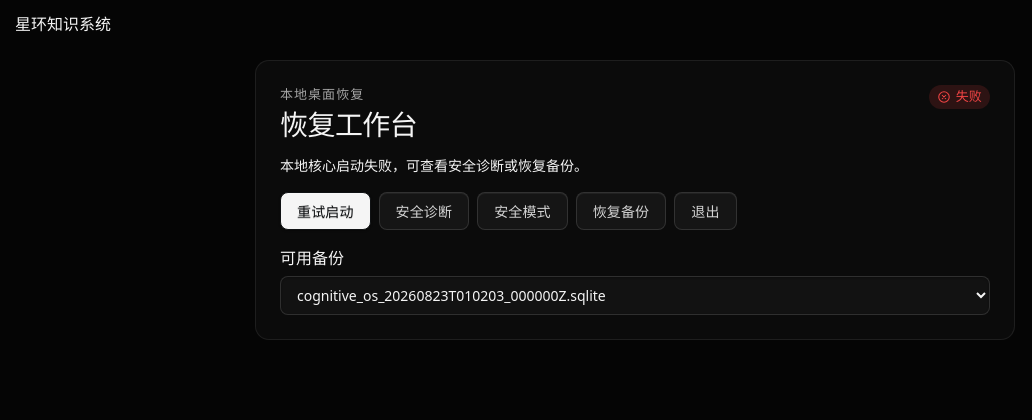
Test: Recovery Shell › keeps recovery operation failures visible in an alert region
This screenshot has width=1032, height=420.
Click the button "安全模式": [522, 211] box x1=477 y1=192 x2=568 y2=230
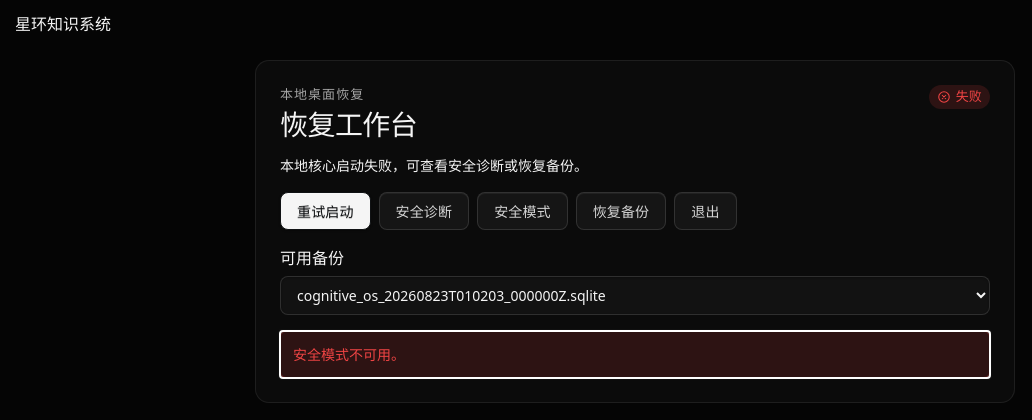
Expected: the message shows "安全模式", x1=293 y1=345 x2=405 y2=364
